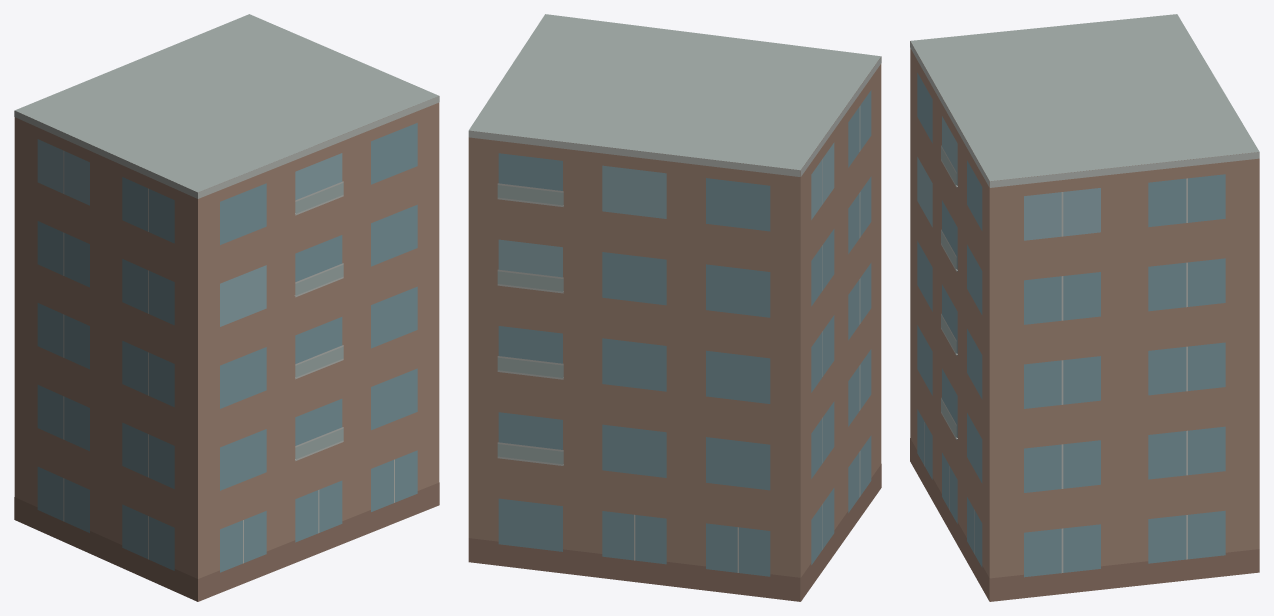
File: survey-upis-32713737.glb
3 views of the same model, side by side, from view 1: azimuth 30°, elevation 25°; view 2: azimuth 150°, elevation 25°; view 3: azimuth 270°, elevation 25° (orthographic). The views are drawn at different scales.
Parts seen in each view (by area): view 1: survey-upis-32713737.tmp; view 2: survey-upis-32713737.tmp; view 3: survey-upis-32713737.tmp.
Part boxes in pixels (<box>): survey-upis-32713737.tmp: <box>14,14,439,601</box>; survey-upis-32713737.tmp: <box>468,14,881,601</box>; survey-upis-32713737.tmp: <box>910,14,1259,601</box>.
Bounding box in the file's own units: 13.02 × 15.25 × 11.49.
